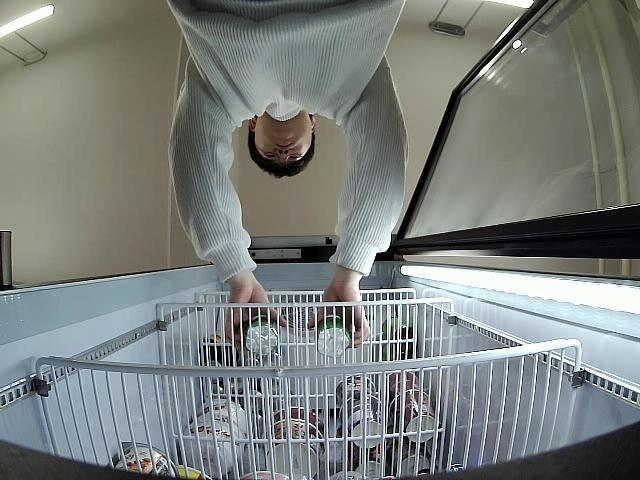18_trevi: (245, 310, 280, 357), (316, 314, 352, 357)
